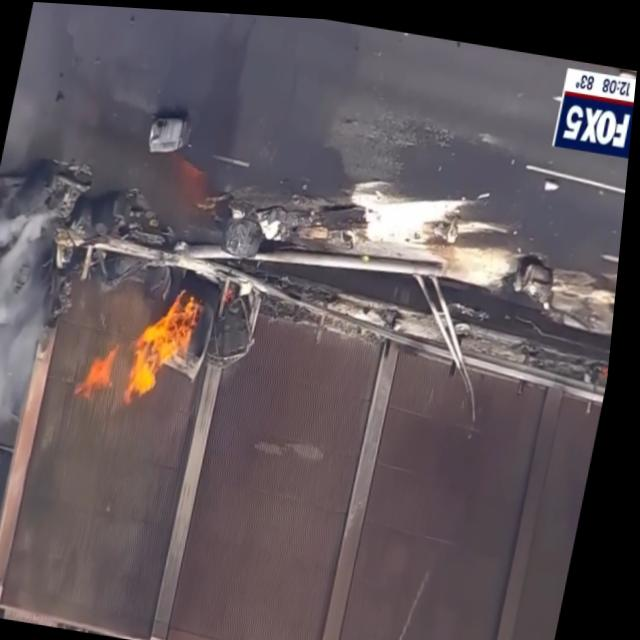Fire: (77, 270, 209, 416)
